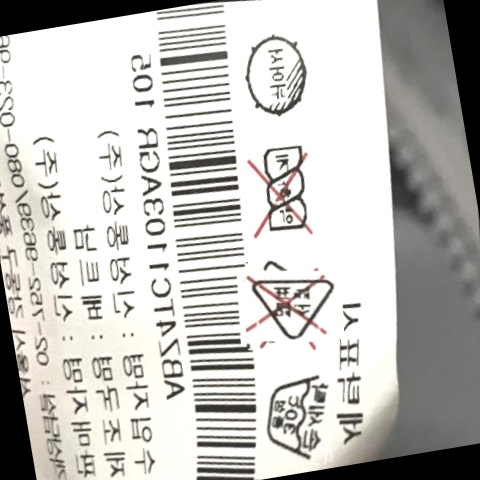DN_wring: (239, 135, 325, 250)
dry_flat_in_shade: (232, 23, 320, 125)
hand_wash: (254, 359, 336, 469)
non_chlorine_bleach: (244, 255, 337, 350)
